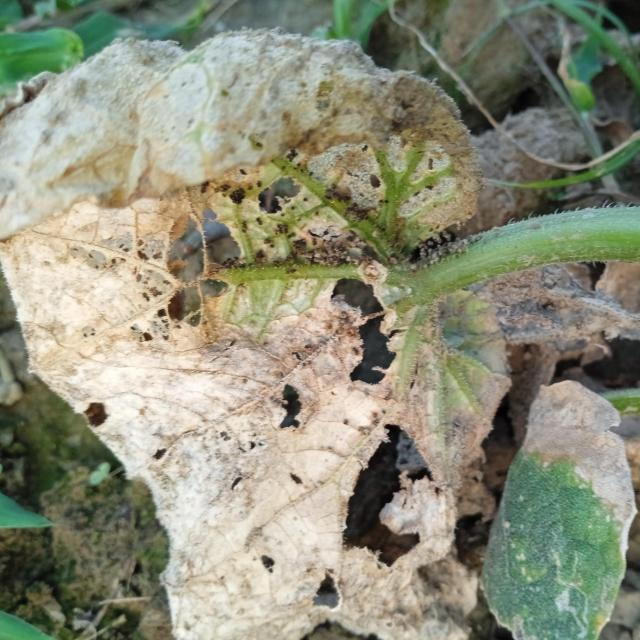cucumber_anthracnose: (61, 107, 633, 612)
